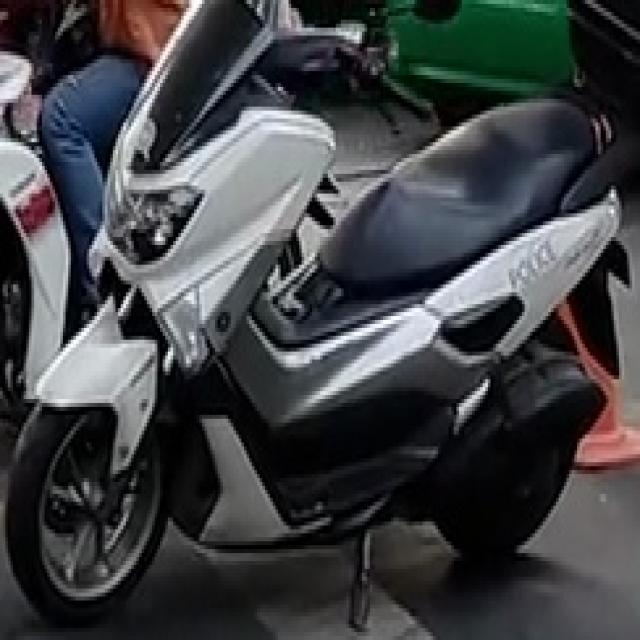door: (2, 0, 638, 624), (380, 0, 577, 99)
tyre: (2, 395, 168, 620)
